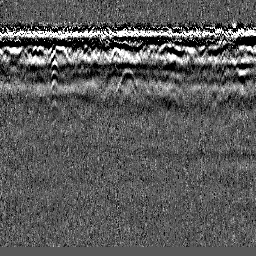cavity: (114, 67, 139, 94)
